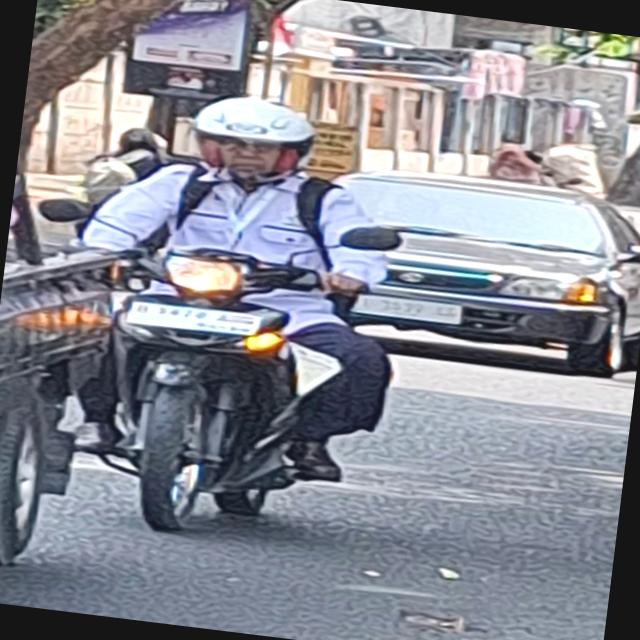WithHelmet: (50, 75, 426, 491)
